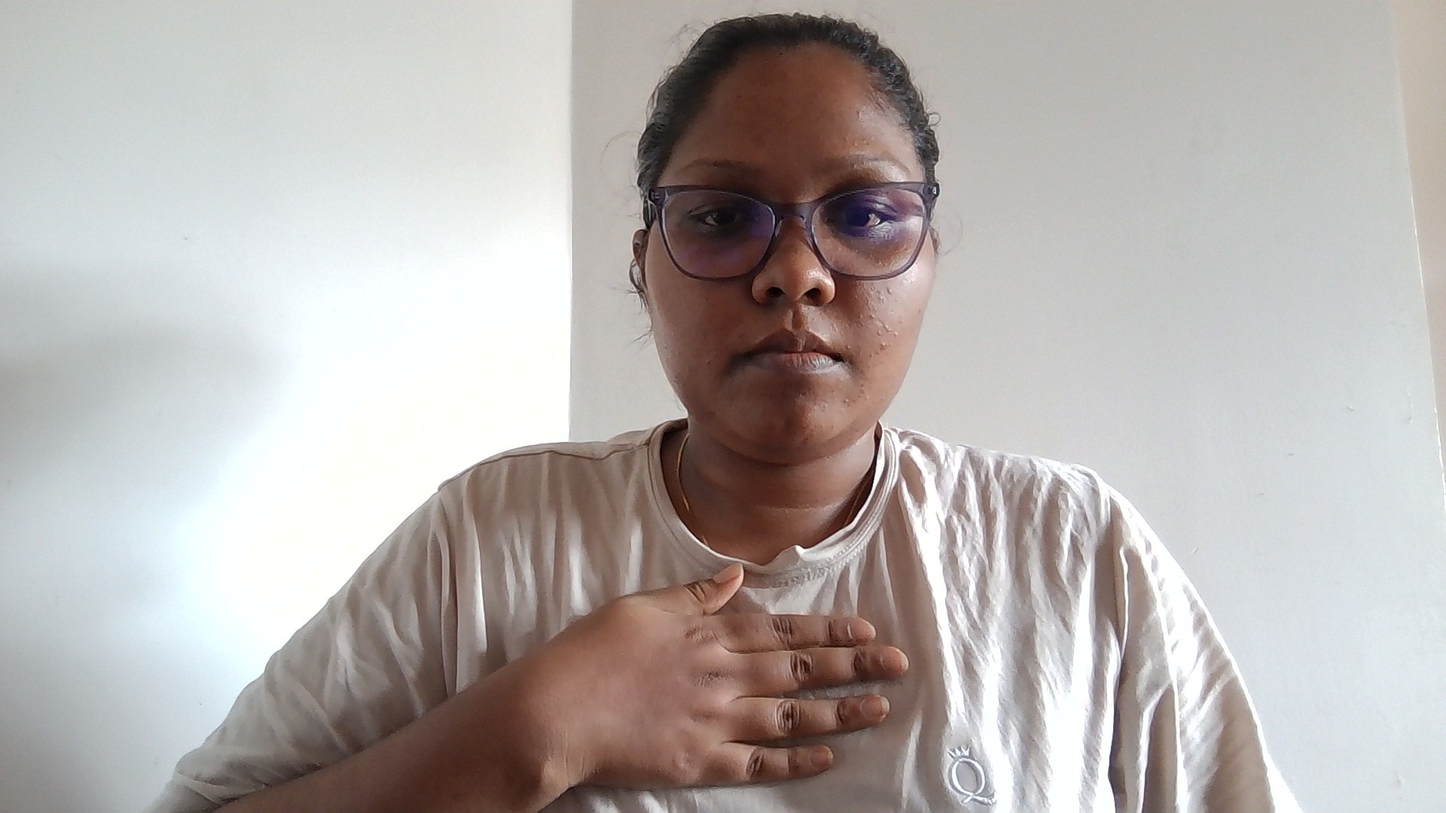Please: (446, 486, 886, 813)
